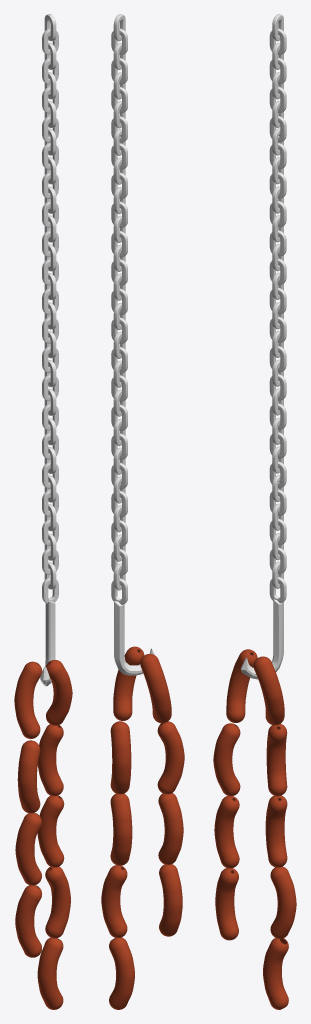
File: hook_sausages.fbx
3 renders of one model, left to right at view 1: azimuth 30°, elevation 25°; view 2: azimuth 150°, elevation 25°; view 3: azimuth 330°, elevation 25°, orthographic.
Visible parts, largest first — view 1: Cylinder.008, Cube.008, Cube.007; view 2: Cylinder.008, Cube.008, Cube.007; view 3: Cylinder.008, Cube.008, Cube.007.
Part boxes in pixels (x1=…): Cylinder.008: x1=14, y1=660, x2=72, y2=1009; Cube.008: x1=42, y1=14, x2=58, y2=603; Cube.007: x1=40, y1=601, x2=55, y2=686; Cylinder.008: x1=101, y1=646, x2=184, y2=1009; Cube.008: x1=111, y1=14, x2=127, y2=604; Cube.007: x1=114, y1=601, x2=155, y2=675; Cylinder.008: x1=213, y1=649, x2=296, y2=1009; Cube.008: x1=269, y1=14, x2=286, y2=603; Cube.007: x1=240, y1=599, x2=283, y2=679.
Size of the model in its own units: 72.4 by 1036 by 50.14.
